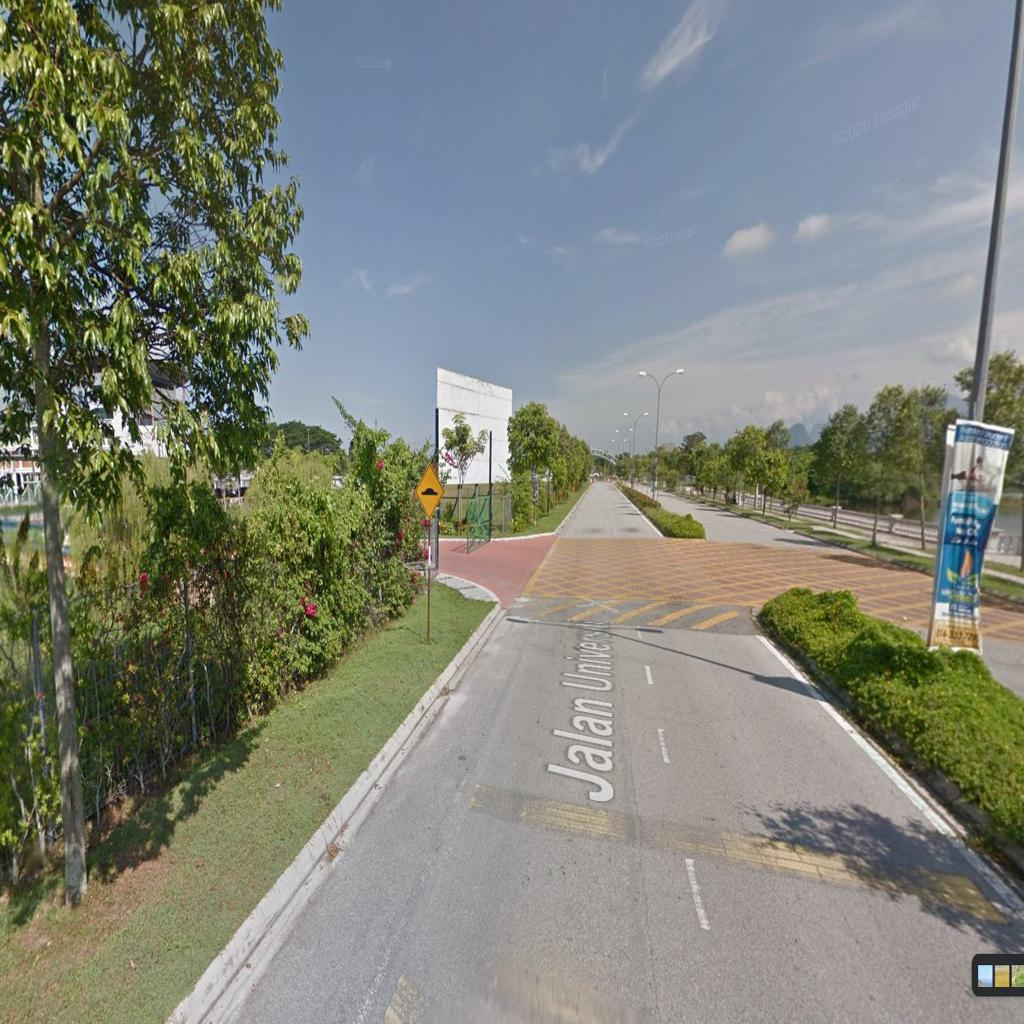Junction: (421, 505, 582, 630)
